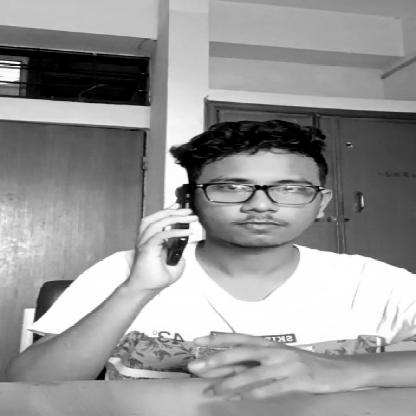Normal: (185, 137, 348, 245)
